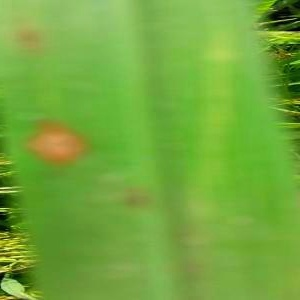Brown_Spot: (9, 111, 97, 177)
